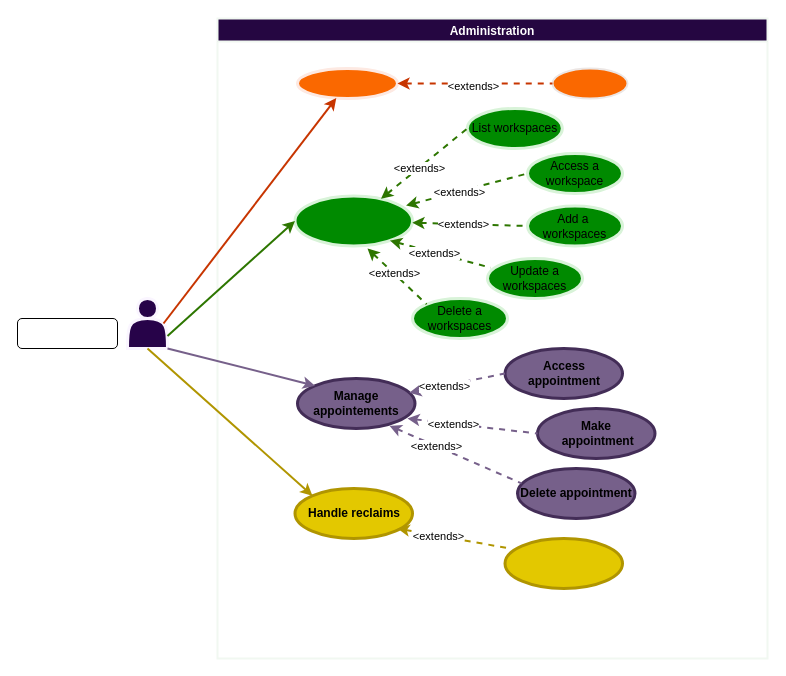
The diagram is 786 pixels wide and 676 high, and some of its shapes have lost their labels. Here are the shapes that lost their labels. From the top down, the centre of each, then its label:
At [347,83]: "Log In".
At [589,83]: "Exception".
At [353,220]: "Manage workspaces".
At [67,333]: "ACTOR 4: ADMIN".
At [563,563]: "Ban a user".
